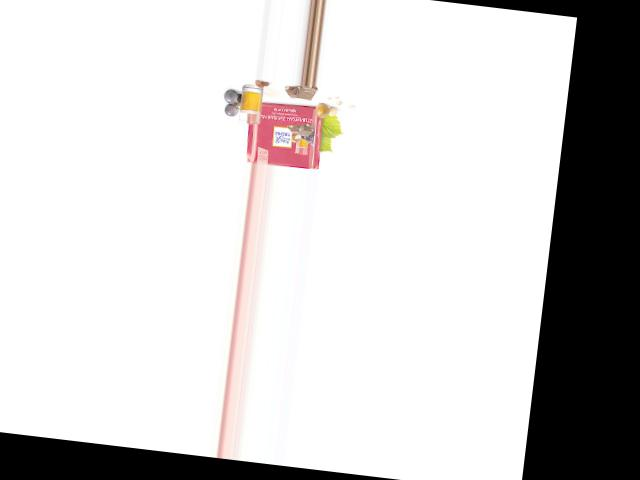chocolate: (245, 99, 327, 170)
